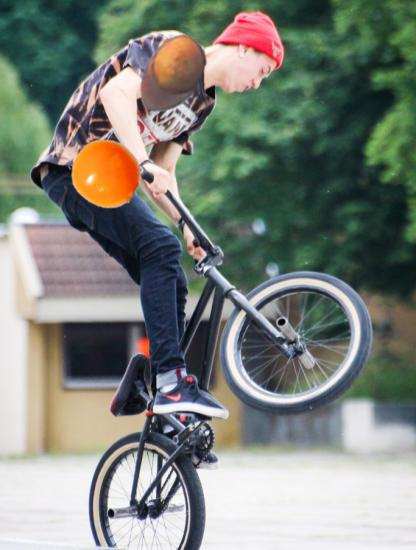Hazelnut: (128, 31, 214, 117)
Physalis: (71, 138, 141, 208)
